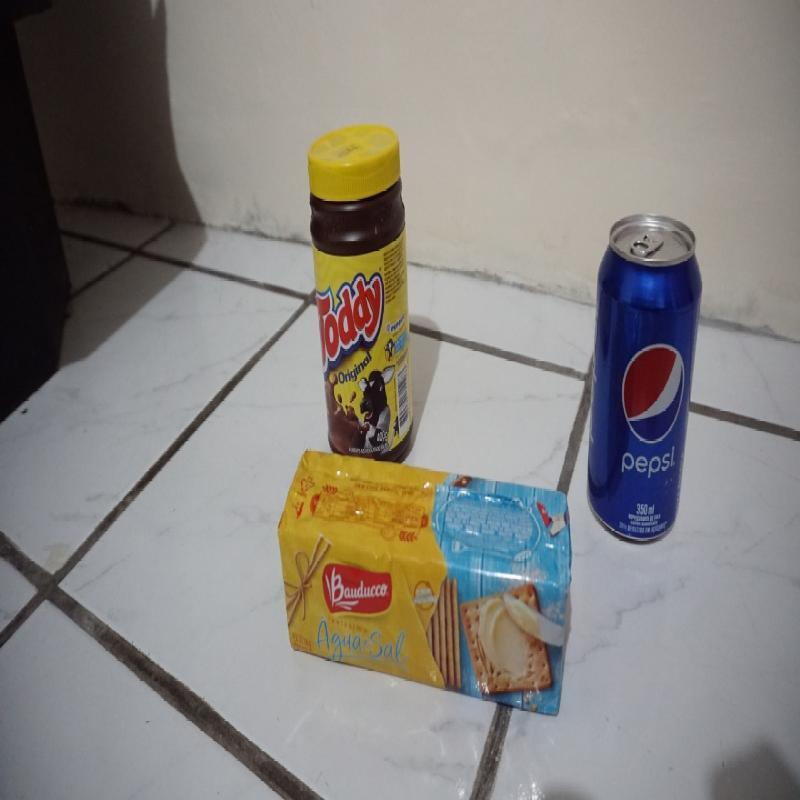Chocolate Powder: (306, 121, 419, 476)
Cracker: (276, 444, 575, 728)
Soda can: (585, 209, 705, 548)
